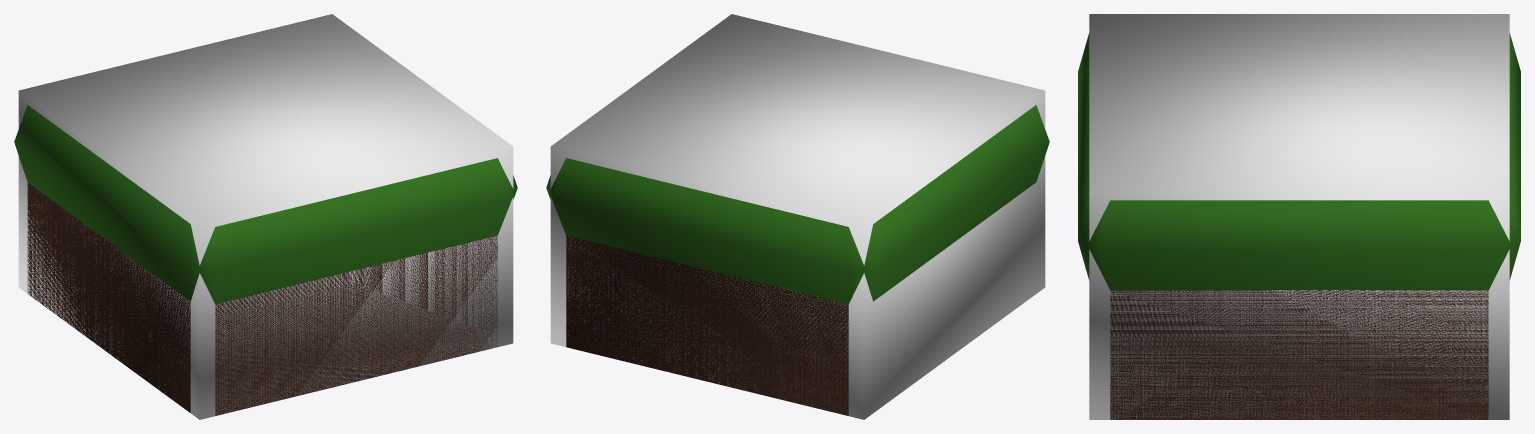
File: grass_flat.glb
3 views of the same model, side by side, from view 1: azimuth 30°, elevation 25°; view 2: azimuth 150°, elevation 25°; view 3: azimuth 270°, elevation 25° (orthographic). The views are drawn at different scales.
Parts seen in each view (by area): view 1: grass_flat_phy, grass_flat; view 2: grass_flat_phy, grass_flat; view 3: grass_flat_phy, grass_flat.
Part boxes in pixels (left/top/right/bottom): grass_flat_phy: left=18, top=14, right=513, bottom=419; grass_flat: left=14, top=105, right=517, bottom=415; grass_flat_phy: left=550, top=14, right=1045, bottom=419; grass_flat: left=546, top=105, right=1049, bottom=415; grass_flat_phy: left=1089, top=14, right=1509, bottom=419; grass_flat: left=1078, top=33, right=1520, bottom=419.
Bounding box in the file's own units: 1.05 × 0.6 × 1.05.
